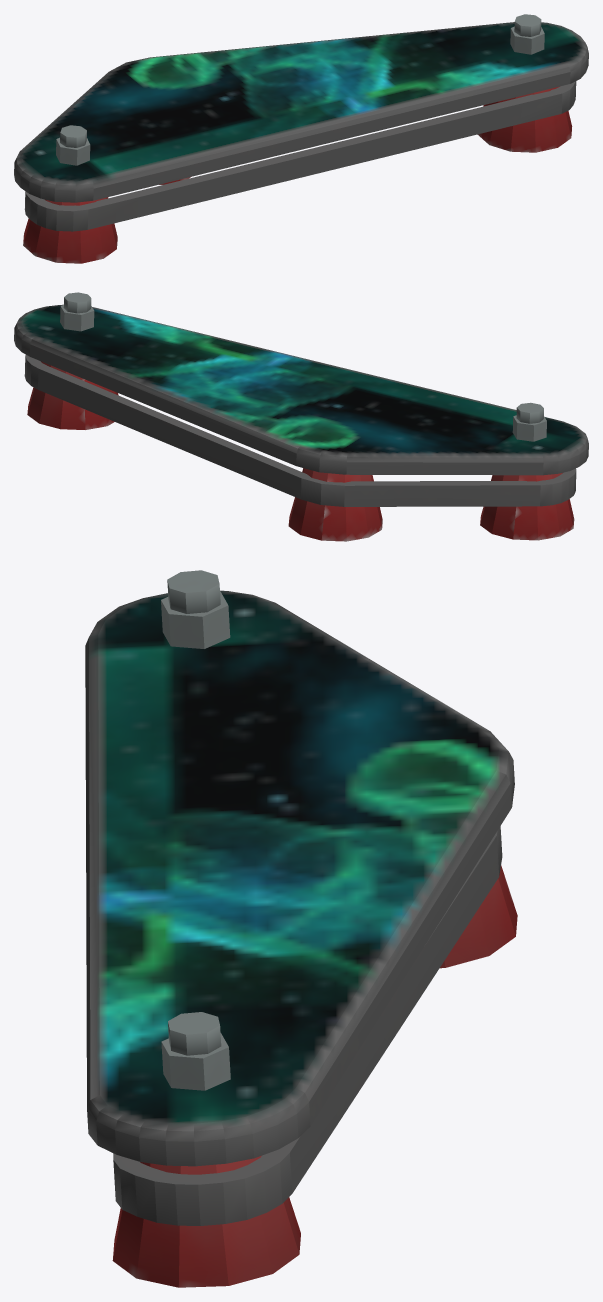
Rendered from SmallBaseAlt.glb.
The picture shows the model from 3 angles, top to bottom: view 1: azimuth 30°, elevation 25°; view 2: azimuth 150°, elevation 25°; view 3: azimuth 270°, elevation 25°; orthographic projection. The views are drawn at different scales.
Visible parts, largest first — view 1: MediumBumper.002; view 2: MediumBumper.002; view 3: MediumBumper.002.
Part boxes in pixels (left/top/right/bottom): MediumBumper.002: left=14, top=14, right=588, bottom=263; MediumBumper.002: left=14, top=292, right=588, bottom=541; MediumBumper.002: left=85, top=570, right=517, bottom=1287.
Bounding box in the file's own units: 0.2092 × 0.0412 × 0.0703.
Materials: 1 (1 with a texture image).
